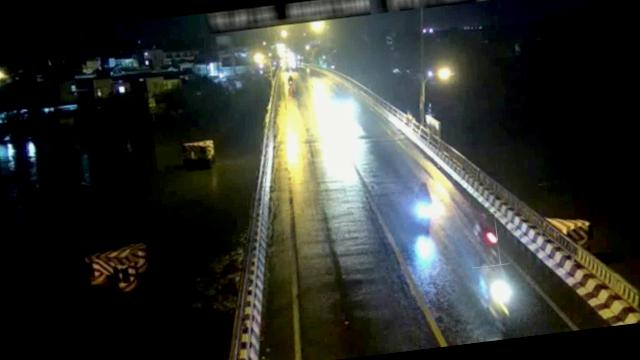Bike: (472, 263, 518, 330), (470, 213, 500, 270)
